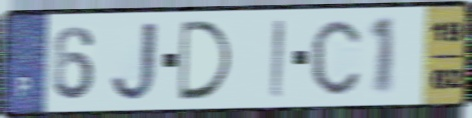1: (365, 13, 399, 99)
6: (52, 24, 98, 102)
C: (309, 17, 363, 98)
D: (177, 18, 235, 103)
I: (268, 16, 287, 100)
J: (108, 19, 162, 105)
